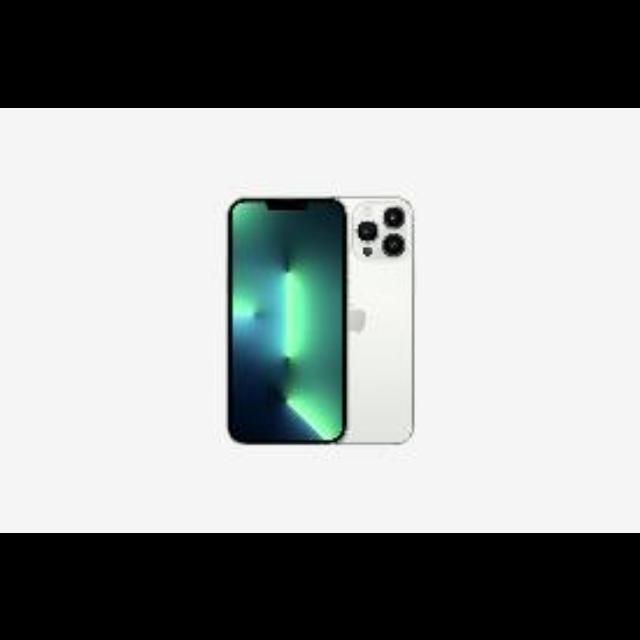mobile: (228, 197, 344, 446), (349, 198, 414, 444)
